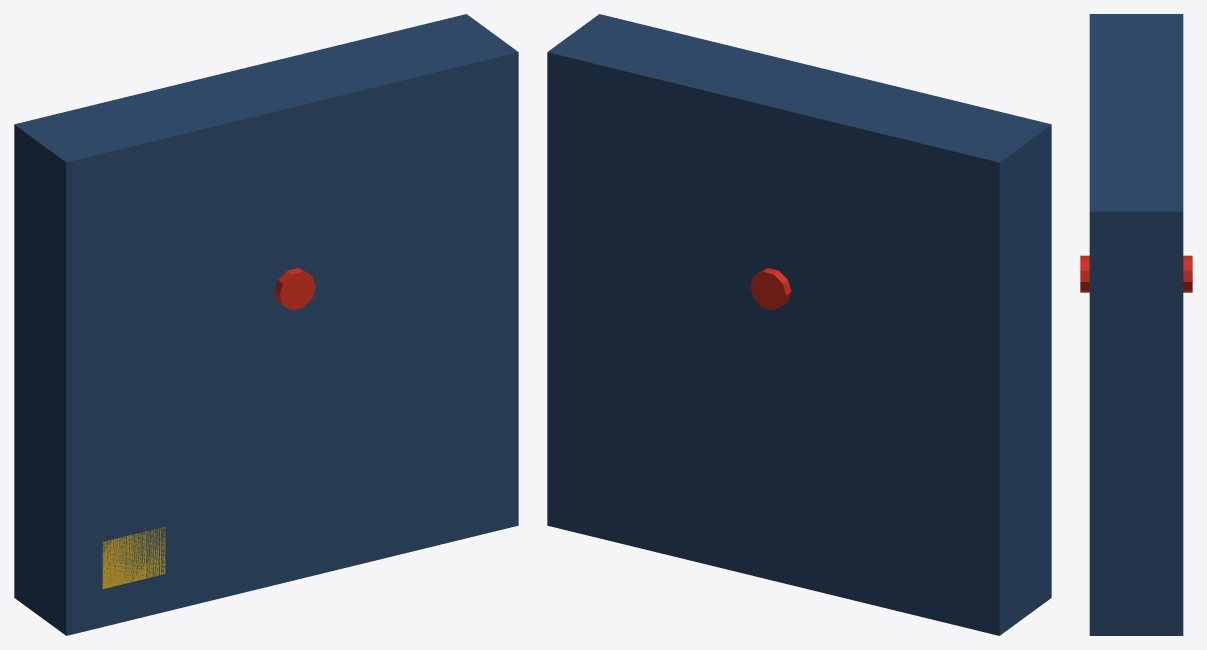
Rendered from security_door_bottom_right_open.obj.
3 renders of one model, left to right at view 1: azimuth 30°, elevation 25°; view 2: azimuth 150°, elevation 25°; view 3: azimuth 270°, elevation 25°, orthographic. The views are drawn at different scales.
Parts seen in each view (by area): view 1: security_door_bottom_right_open; view 2: security_door_bottom_right_open; view 3: security_door_bottom_right_open.
Boxes of the visible parts, box(x1,y1,x2,y2) form: security_door_bottom_right_open: box(14, 14, 518, 635); security_door_bottom_right_open: box(547, 14, 1051, 635); security_door_bottom_right_open: box(1080, 14, 1192, 635).
Bounding box in the file's own units: 1 × 1 × 0.24.
